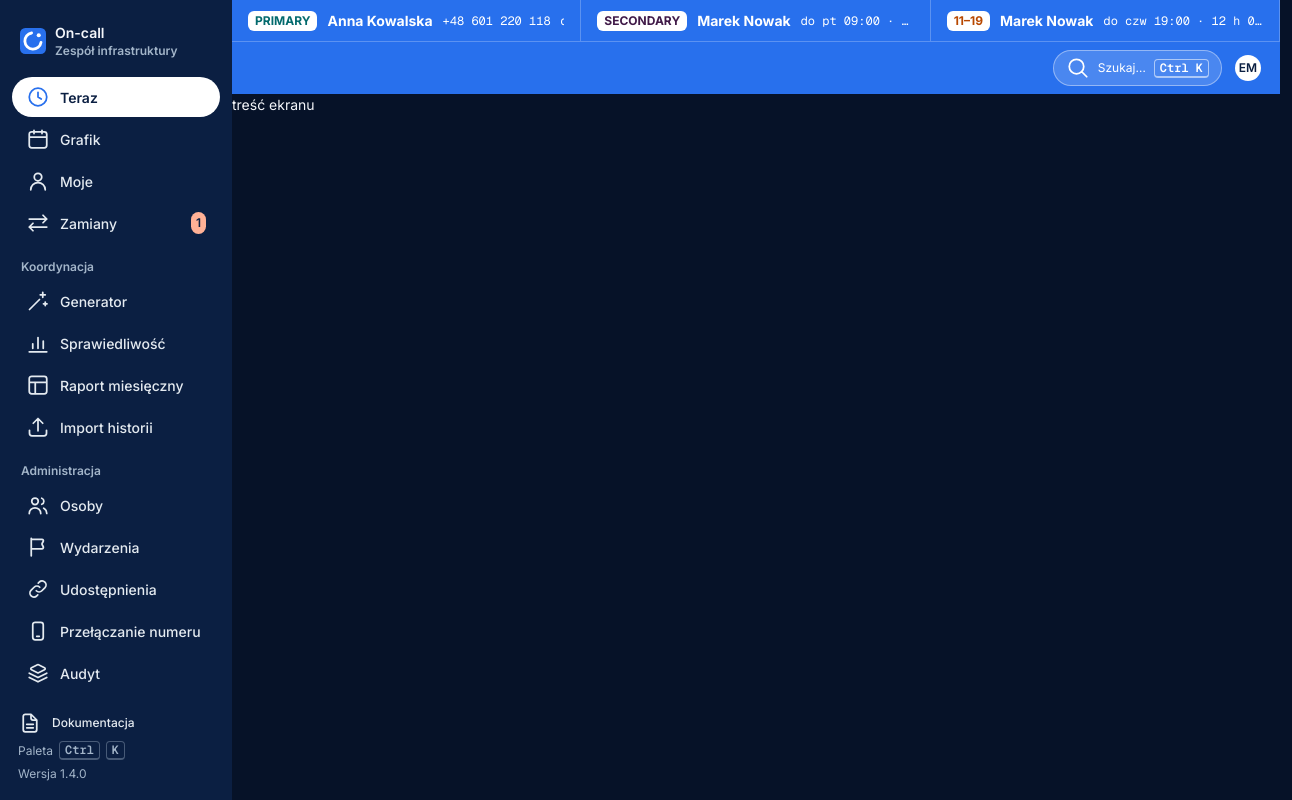
Scenario: the Polish interface › shell of an administrator with the account menu open
The width and height of the screenshot is (1292, 800).
Expected: the text "Wersja 1.4.0" is shown, [18,766,86,781]
Expected: the text "Anna Kowalska" is shown, [328,10,433,31]
What coordinates should you click on to do the following:
click the button "EM"
I would click on:
 (1248, 68)
Its box is [1228,48,1268,88].
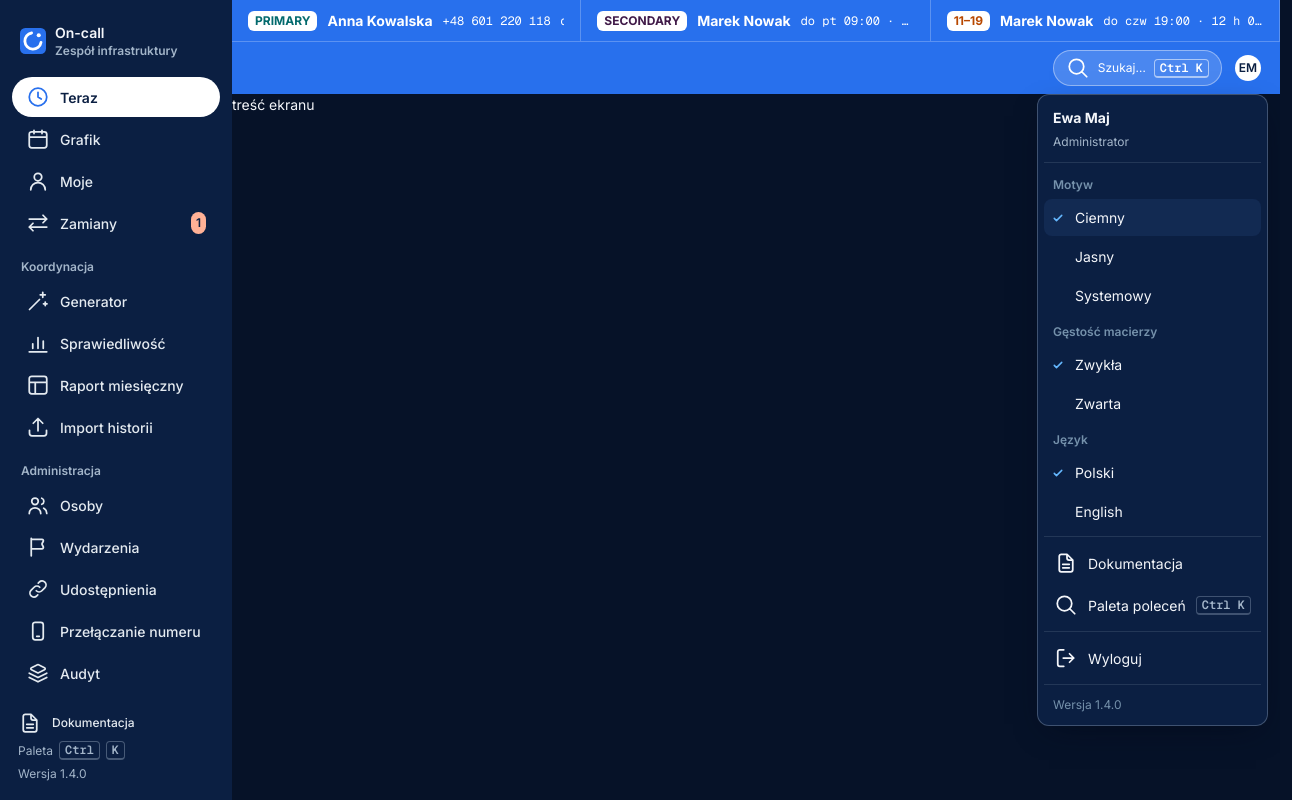
Now the menu is shown, box [1037,94,1268,726]
